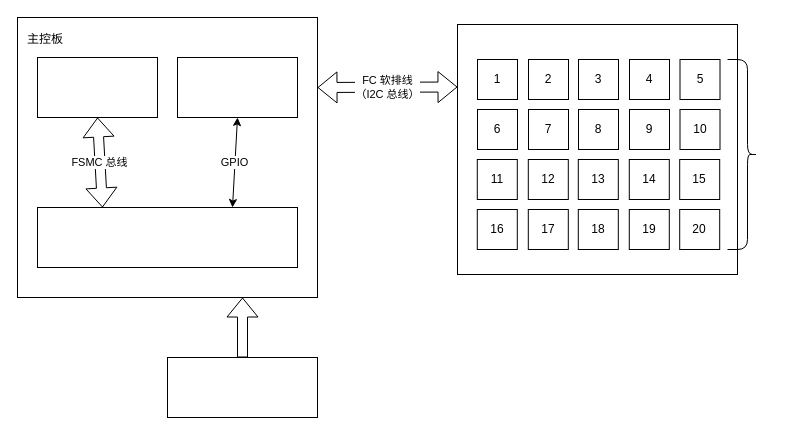
The diagram is 806 pixels wide and 435 high, and some of its shapes have lost their labels. Here are the shapes that lost their labels. From the top down, the box of each, then its label:
(36, 56, 158, 118): 3.5寸 TFT 显示屏
(176, 56, 298, 118): START 按键
(456, 24, 738, 274): SOIC8 编程座扩展板
(726, 58, 758, 250): 编程座 x20
(36, 206, 298, 268): 主芯片（STM32F103VET6）
(166, 356, 318, 418): USB 电源适配器
